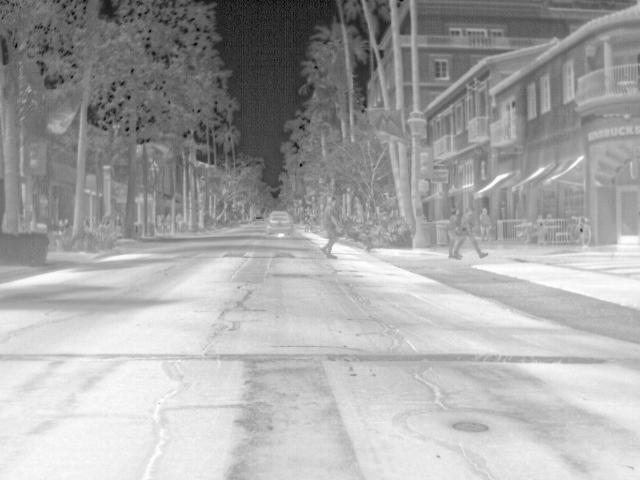car: (266, 211, 292, 235), (251, 215, 265, 226)
person: (452, 208, 488, 259), (320, 196, 341, 260), (445, 206, 460, 258), (477, 206, 491, 242), (172, 213, 184, 225)
